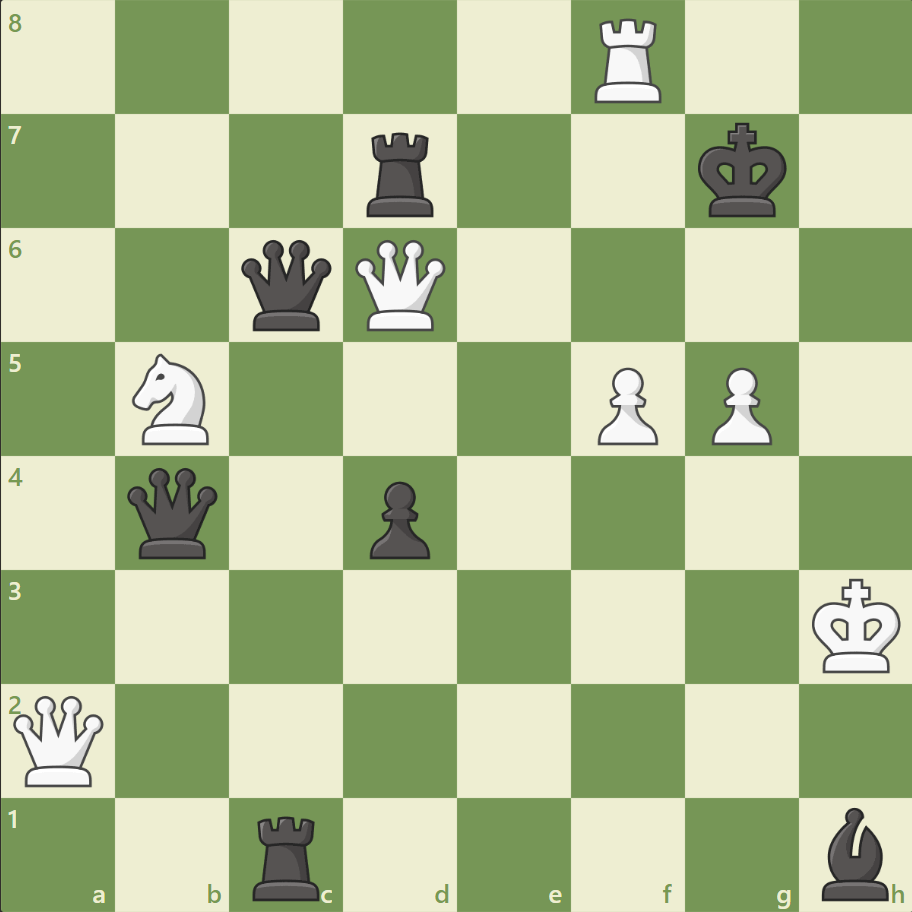K: (806, 571, 906, 679)
N: (124, 348, 222, 450)
P: (701, 359, 776, 450), (588, 359, 662, 450)
Q: (351, 236, 450, 335), (10, 690, 109, 789)
R: (587, 12, 670, 109)
b: (812, 801, 896, 904)
k: (692, 117, 792, 225)
p: (361, 473, 435, 564)
q: (237, 236, 336, 335), (124, 463, 223, 562)
r: (246, 806, 329, 904), (360, 125, 442, 222)
